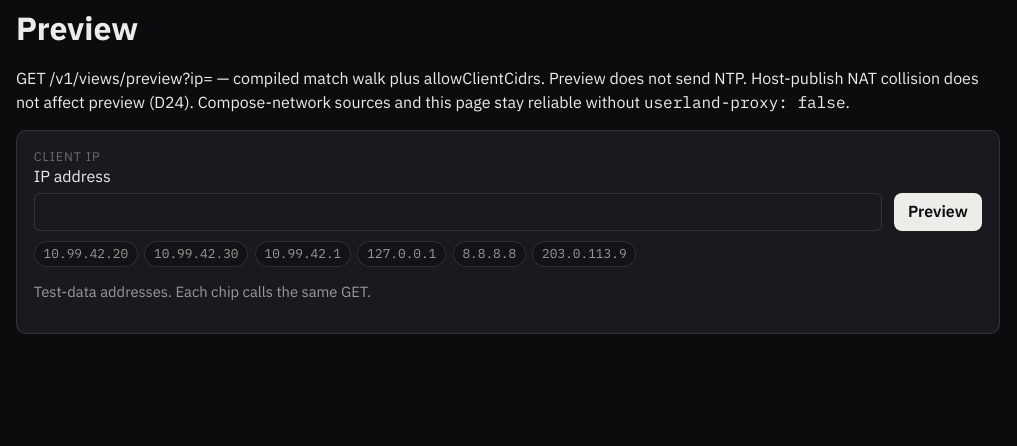
Test: PreviewPage › shows allowlist reason on 200
The width and height of the screenshot is (1017, 446).
Type "8.8.8.8" into the field labelled "IP address" at (458, 212), box x1=34 y1=193 x2=882 y2=231
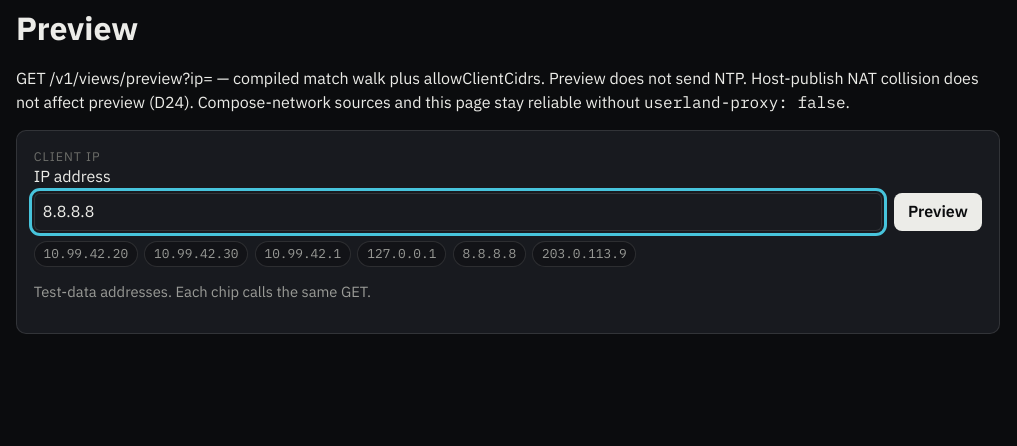
Click the button "Preview" at (938, 212), box x1=894 y1=193 x2=982 y2=231
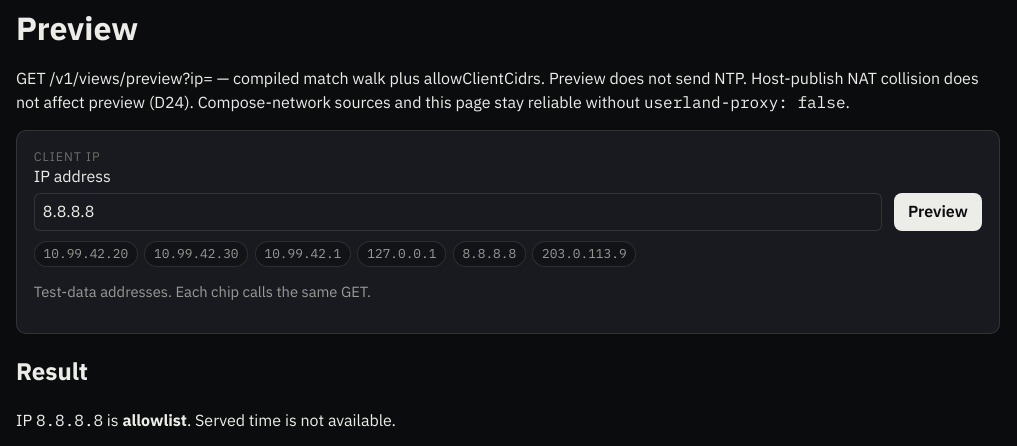
Expected: the text "allowlist" is shown, x1=122 y1=410 x2=187 y2=430
Expected: the text "IP 8.8.8.8 is allowlist. Served time is not available." is shown, x1=16 y1=410 x2=396 y2=430
